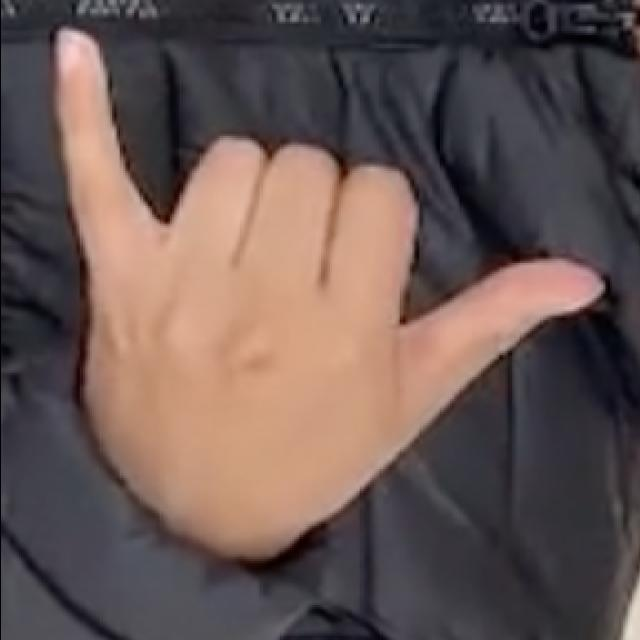Y: (49, 25, 616, 519)
